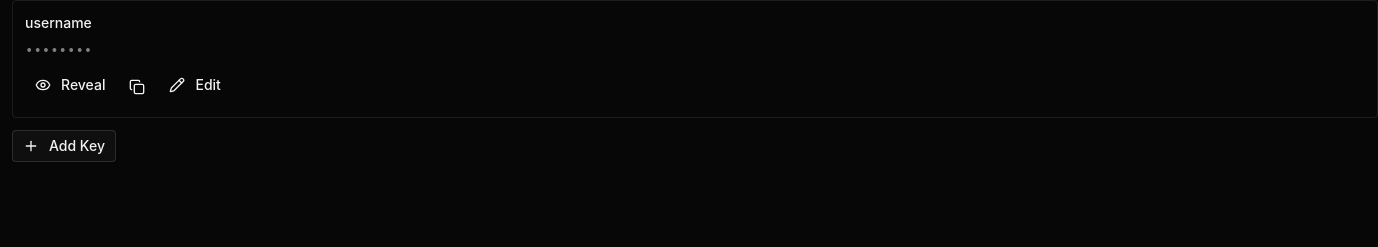
Test: SecretDataViewer › clicking Edit shows an editable TextField for that key
This screenshot has width=1378, height=247.
Click the button "Edit" at (195, 85), box [160,69,231,101]
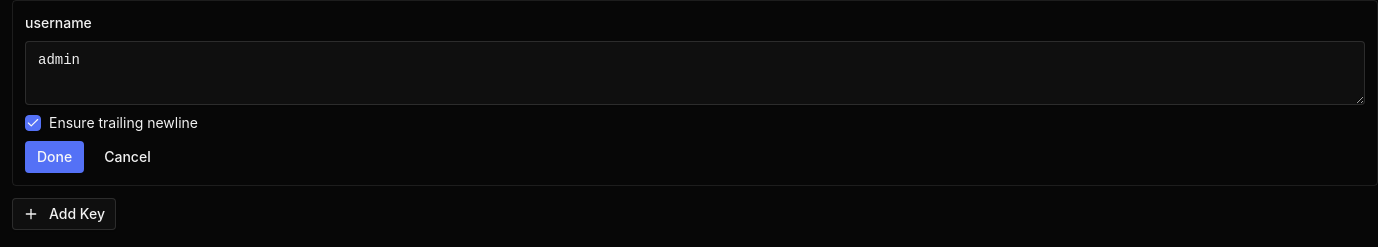
Expected: the text box showing "admin" is shown, [25,41,1365,105]
